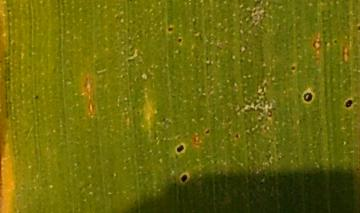tarspot: (301, 89, 316, 104), (342, 95, 355, 112), (173, 141, 187, 155), (178, 170, 190, 185), (165, 23, 176, 35), (176, 35, 184, 47)
